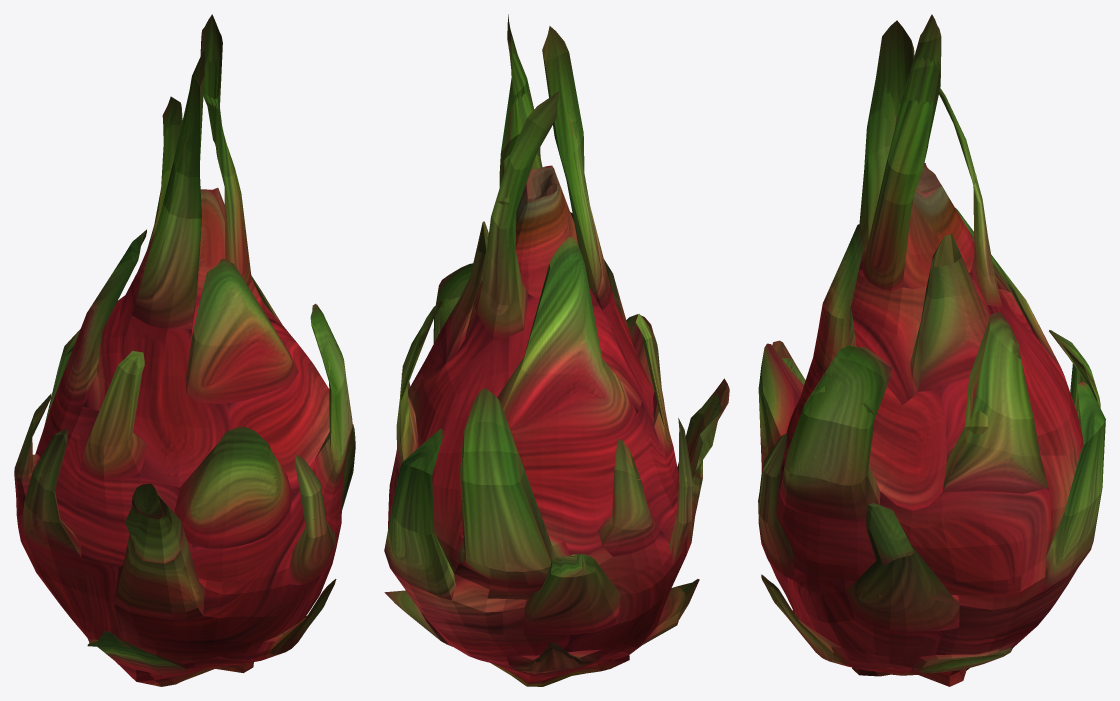
The model's file is dragon.glb.
3 renders of one model, left to right at view 1: azimuth 30°, elevation 25°; view 2: azimuth 150°, elevation 25°; view 3: azimuth 270°, elevation 25°, orthographic. The views are drawn at different scales.
Visible parts, largest first — view 1: AM130_022_010; view 2: AM130_022_010; view 3: AM130_022_010.
Boxes of the visible parts, x1,y1,x2,y2 form: AM130_022_010: (14,14,355,686); AM130_022_010: (384,14,729,686); AM130_022_010: (758,14,1105,686).
Size of the model in its own units: 0.0547 by 0.1119 by 0.0526.
Materials: 1 (1 with a texture image).
